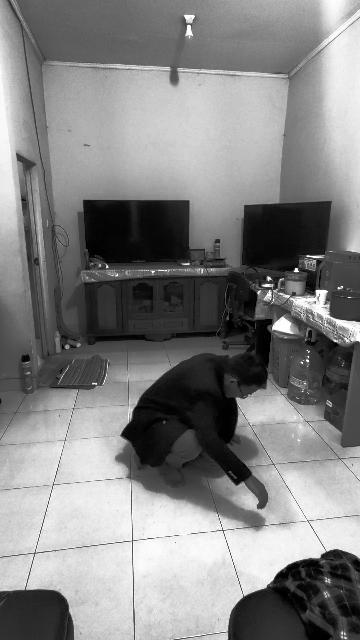jatuh: (129, 344, 269, 522)
